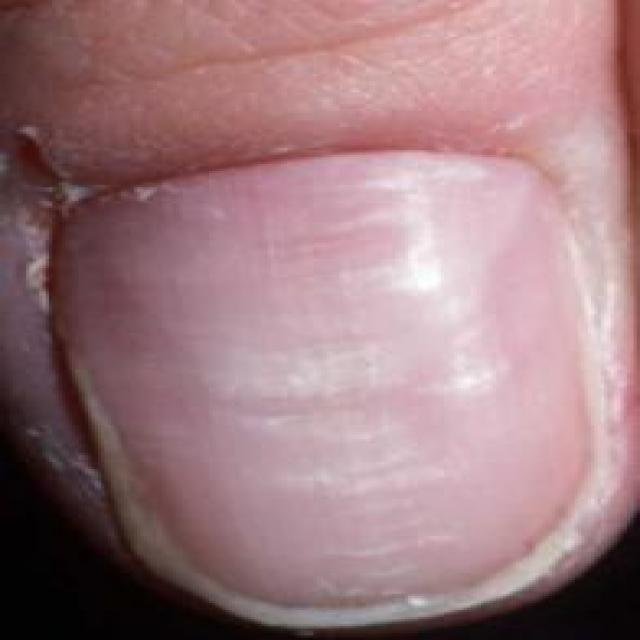Nail: (40, 150, 626, 635)
